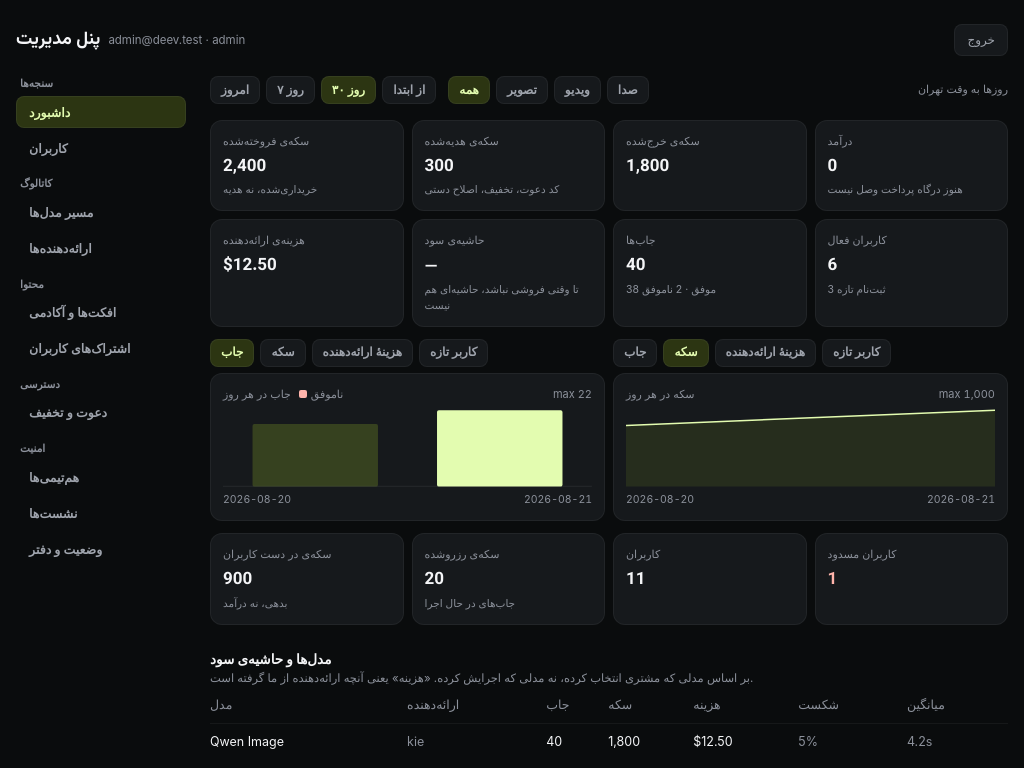
Test: the admin console › drops every cached staff payload on sign-out
Expected: the heading "پنل مدیریت" is shown, [16,27,100,55]
Click the button "ارائه‌دهنده‌ها" at coordinates (101, 248), box [16,232,186,264]
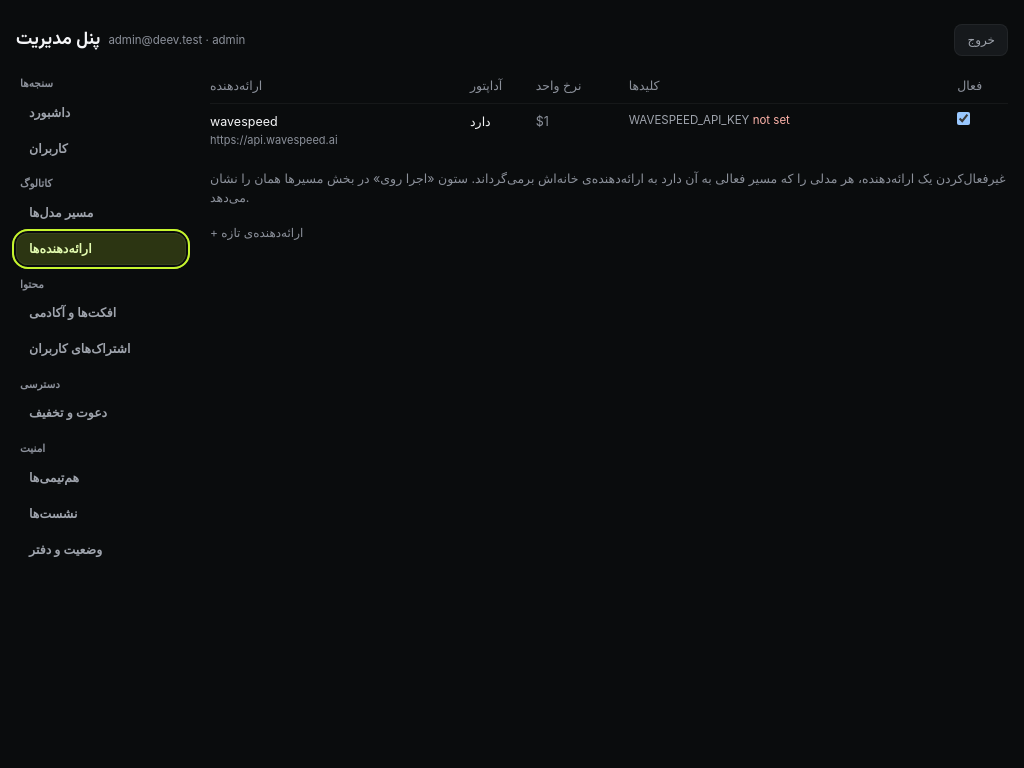
Expected: the text "WAVESPEED_API_KEY" is shown, [629,113,750,127]
Click the button "خروج" at coordinates (981, 40), box [954,24,1008,56]
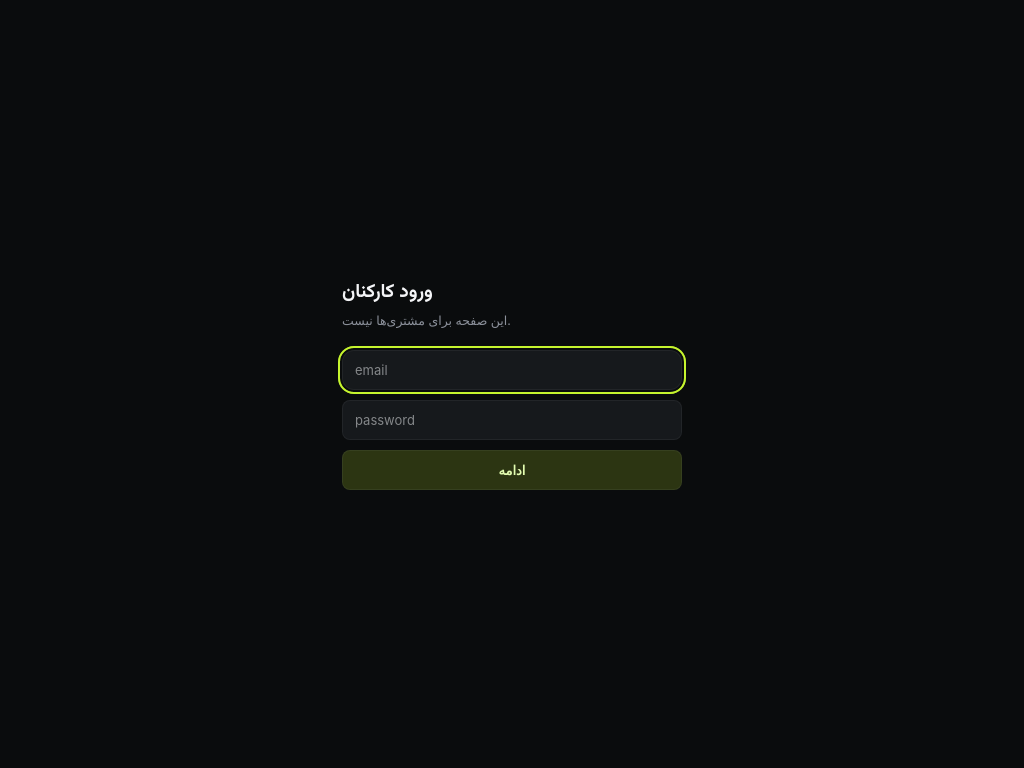
Expected: the heading "ورود کارکنان" is shown, [342,278,433,307]
Expected: the text "WAVESPEED_API_KEY" is gone
